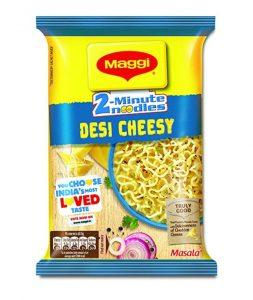Maggi: (34, 14, 217, 277)
